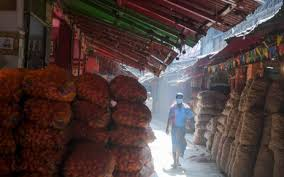mask: (173, 94, 186, 107)
